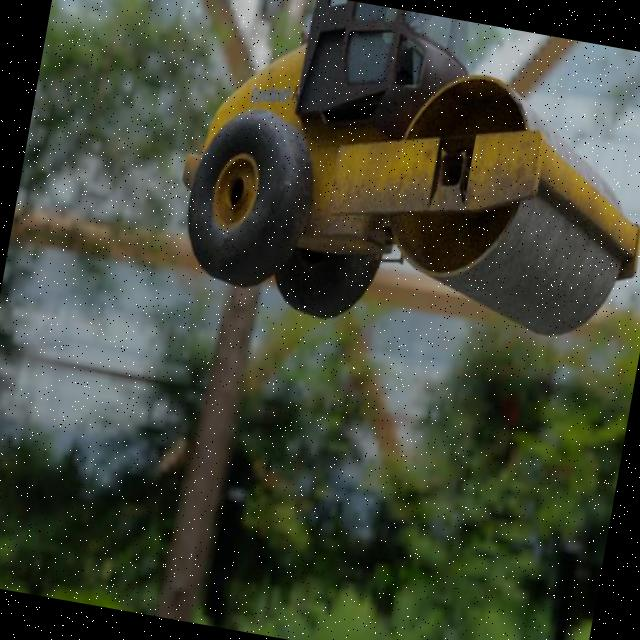Roller: (160, 0, 640, 372)
